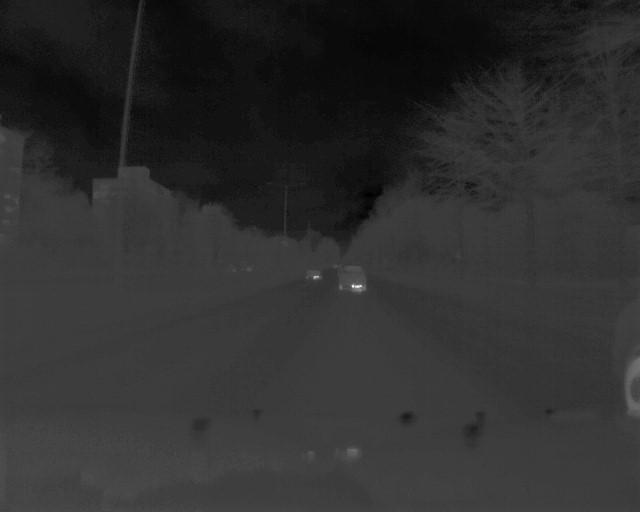car: (337, 262, 367, 294)
